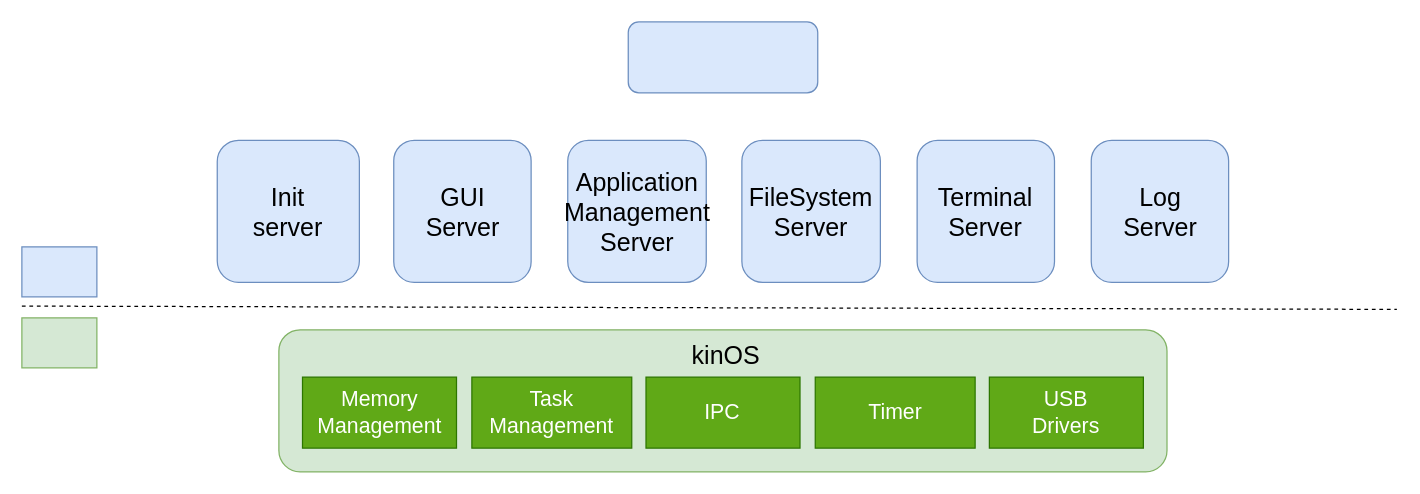
Some shapes in this 1420 by 494 pixel diagram are drawn without their labels. The box of each missing label's shape, as (x1, y1, x2, y2) in pixels:
App: (627, 21, 818, 93)
Kernel Space: (21, 317, 97, 368)
User Space: (21, 246, 97, 297)
